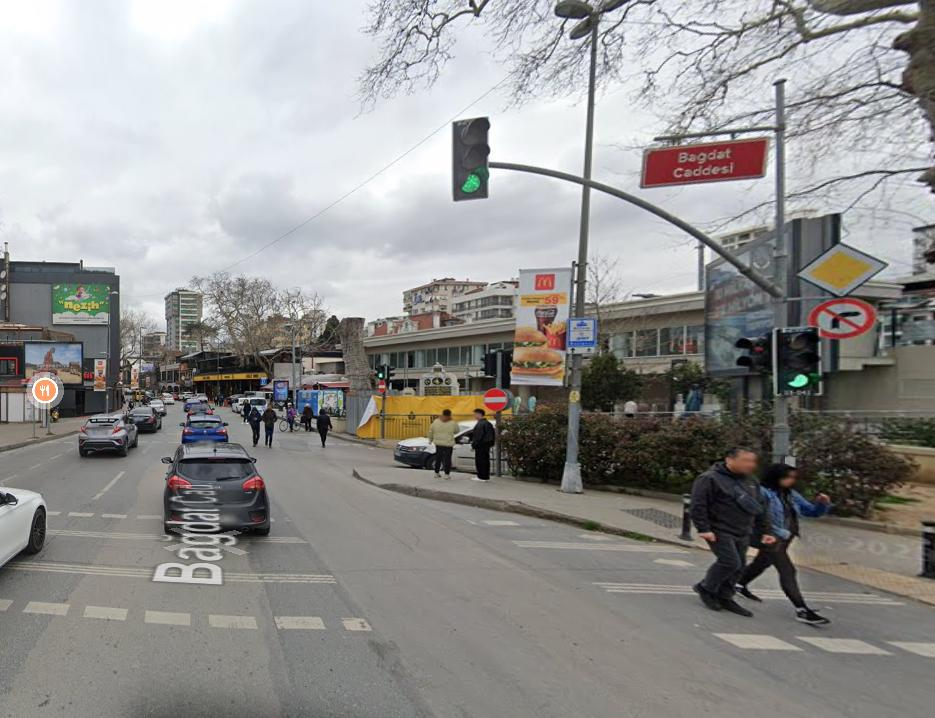greenlight: (452, 119, 491, 199), (779, 330, 818, 389)
rightturnsareforbidden: (815, 300, 872, 338)
